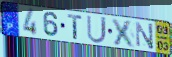4: (22, 8, 39, 38)
6: (42, 11, 59, 38)
N: (135, 21, 155, 51)
T: (67, 13, 84, 41)
U: (86, 14, 108, 45)
X: (110, 18, 137, 49)
